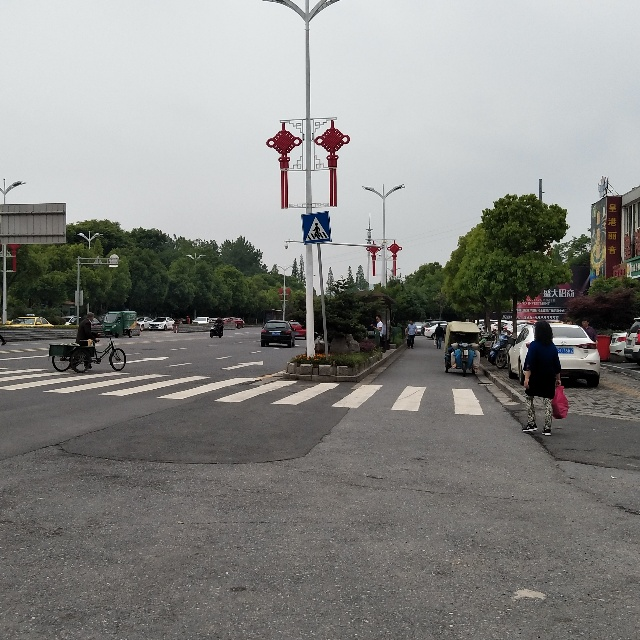crosswalk: (299, 213, 333, 242)
